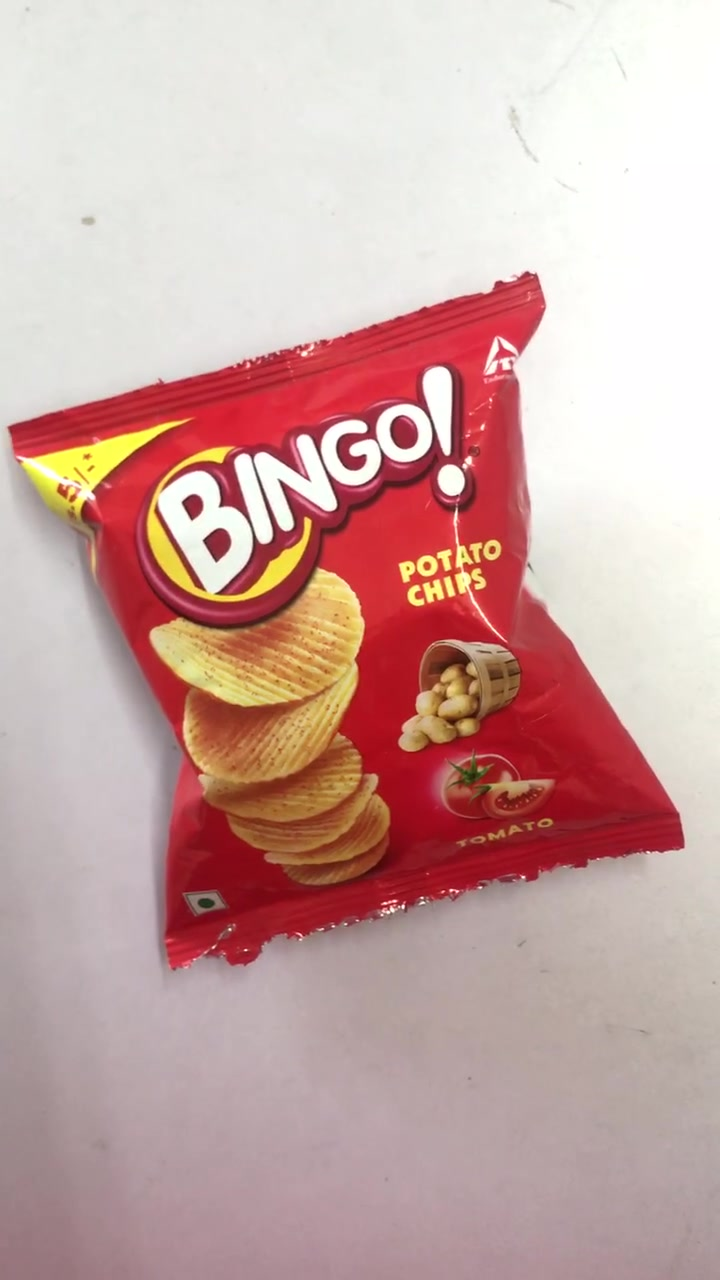Bingo: (8, 310, 680, 916)
